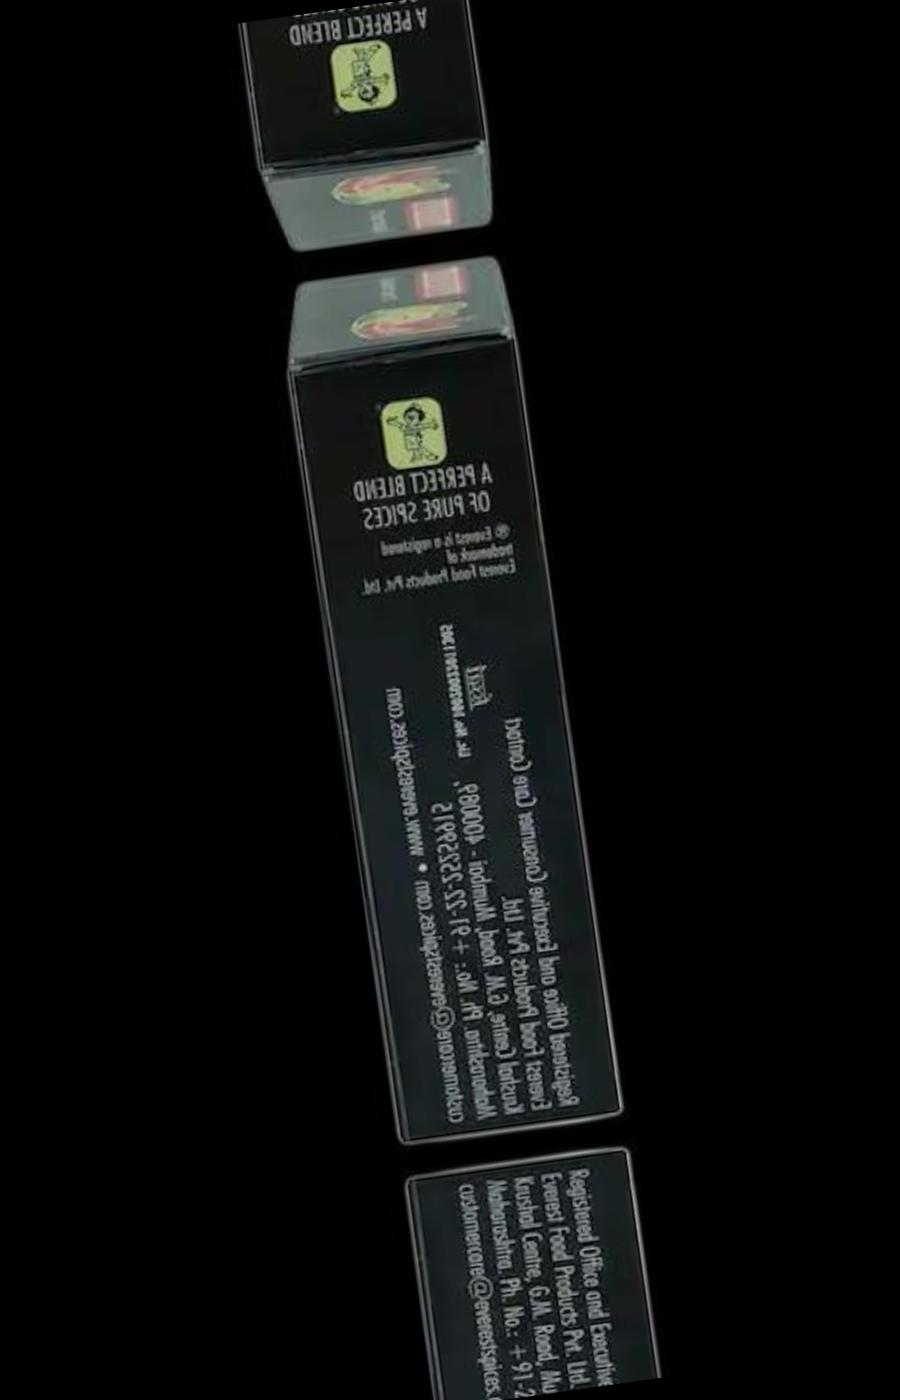Everest Chaat Masala 50 g: (263, 241, 640, 1163), (388, 1127, 675, 1400), (227, 0, 514, 267)
